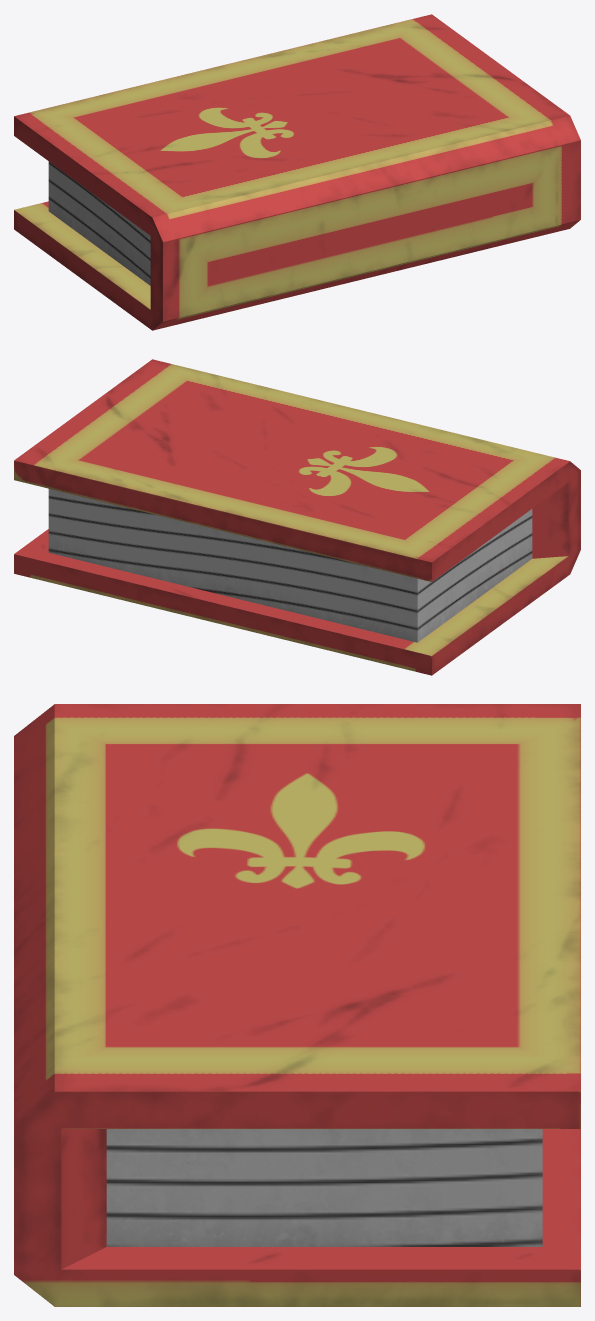
File: book_red.fbx
3 views of the same model, one above another, from view 1: azimuth 30°, elevation 25°; view 2: azimuth 150°, elevation 25°; view 3: azimuth 270°, elevation 25° (orthographic). The views are drawn at different scales.
Visible parts, largest first — view 1: Cube.009; view 2: Cube.009; view 3: Cube.009.
Boxes of the visible parts, <box> form: Cube.009: <box>14,14,580,330</box>; Cube.009: <box>14,359,580,675</box>; Cube.009: <box>14,704,580,1306</box>.
Bounding box in the file's own units: 324 × 83.77 × 200.
